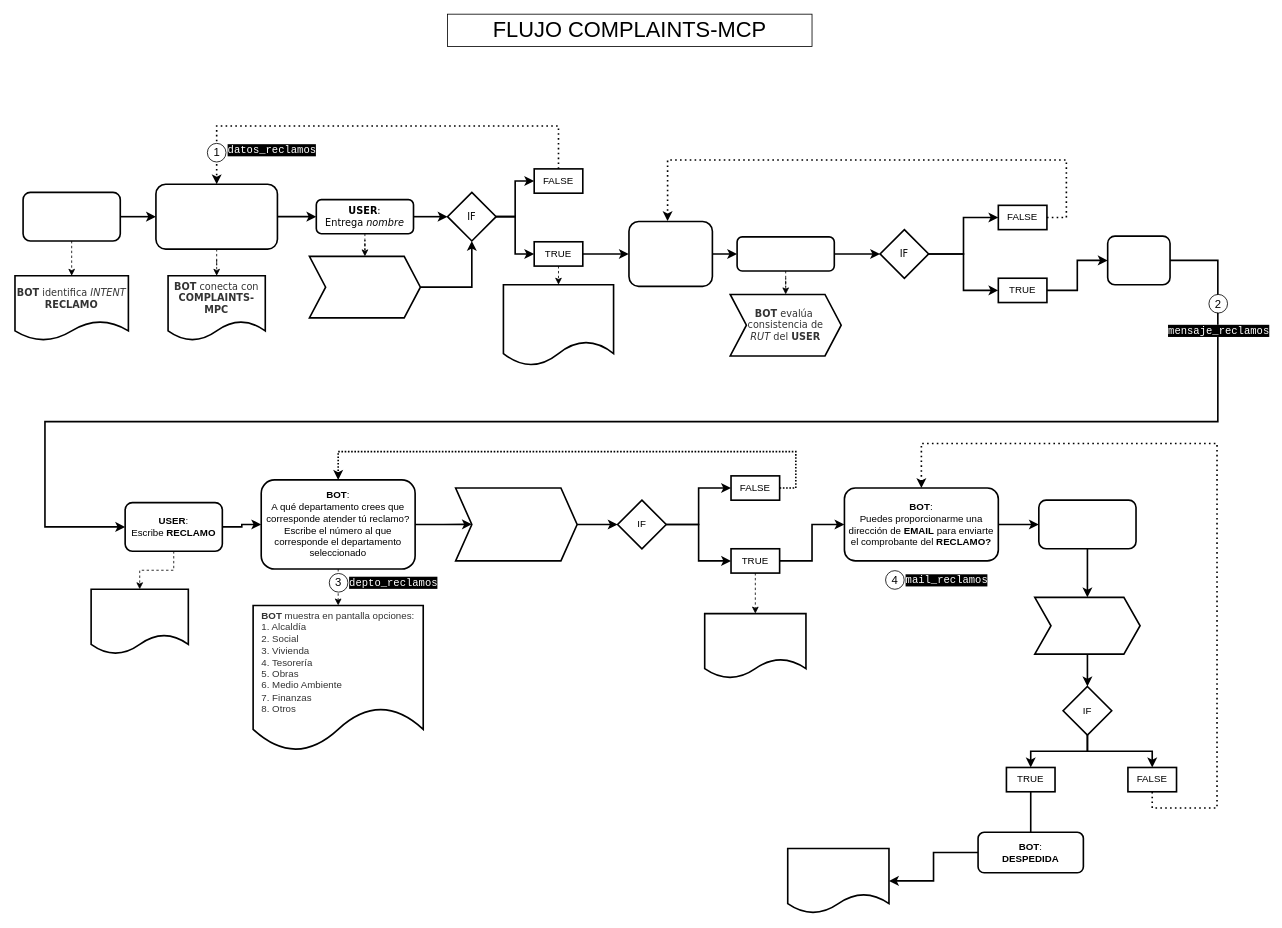
Image size: 1282x928. Some labels were removed from this diagram. Each missing label, with the box of its shape:
BOT : Cuál es tu reclamo?: (1106, 235, 1170, 285)
BOT : Me puedes proporcionar tu RUT: (628, 220, 713, 287)
BOT : Para procesar tu RECLAMO necesito que me proporciones tu nombre: (155, 183, 278, 249)
BOT envía MAIL con comprobante de RECLAMO a USER: (787, 847, 889, 914)
BOT evalúa consistencia de EMAIL del USER: (1034, 596, 1140, 654)
BOT evalúa consistencia de nombre del USER: (308, 255, 421, 318)
BOT evalúa consistencia de selección del USER: (454, 487, 578, 561)
BOT registra en BD nombre y rut del USER. Identifica y registra IP: (502, 284, 614, 366)
BOT registra en BD selección del USER: (703, 612, 806, 679)
BOT registra RECLAMO en BD: (90, 588, 189, 654)
USER : Entrega dirección EMAIL: (1038, 499, 1136, 549)
USER : Entrega RUT: (736, 236, 835, 271)
USER : Quiero dejar un RECLAMO: (22, 191, 121, 241)
